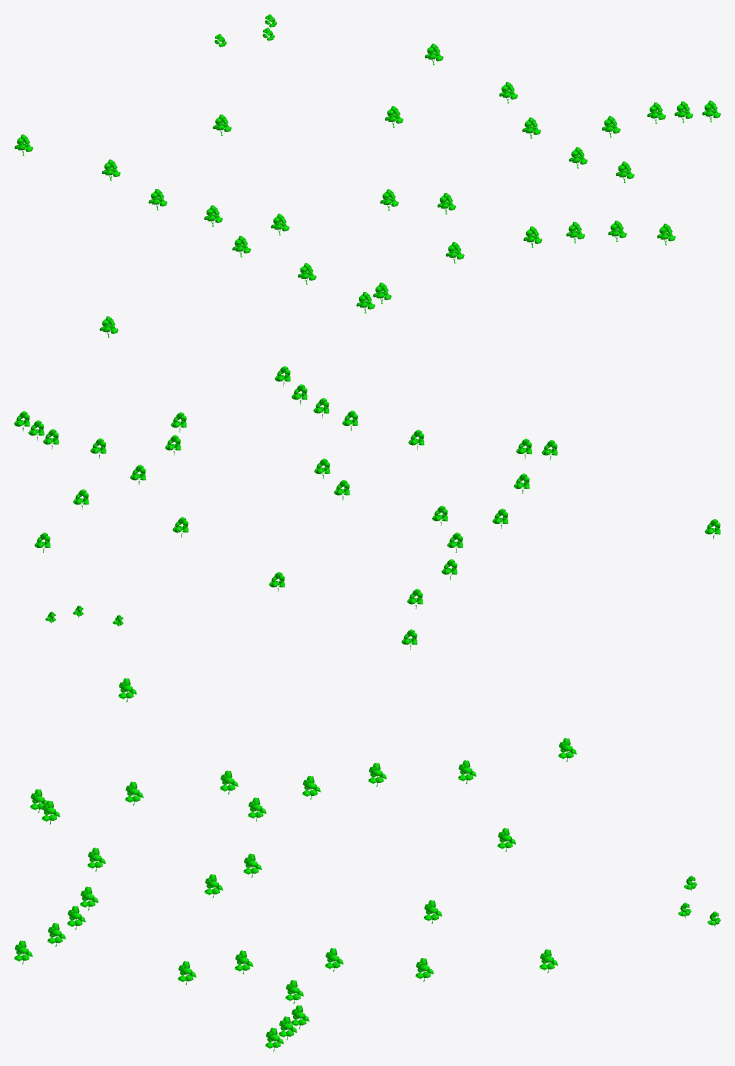
File: Treev1.glb
3 renders of one model, top to bottom at view 1: azimuth 30°, elevation 25°; view 2: azimuth 150°, elevation 25°; view 3: azimuth 270°, elevation 25°, orthographic. The views are drawn at different scales.
Parts seen in each view (by area): view 1: Tree v1; view 2: Tree v1; view 3: Tree v1.
Boxes of the visible parts, x1,y1,x2,y2 form: Tree v1: (14, 14, 720, 337); Tree v1: (14, 366, 720, 649); Tree v1: (14, 678, 720, 1051).
Bounding box in the file's own units: 2261 × 80.71 × 1876.
